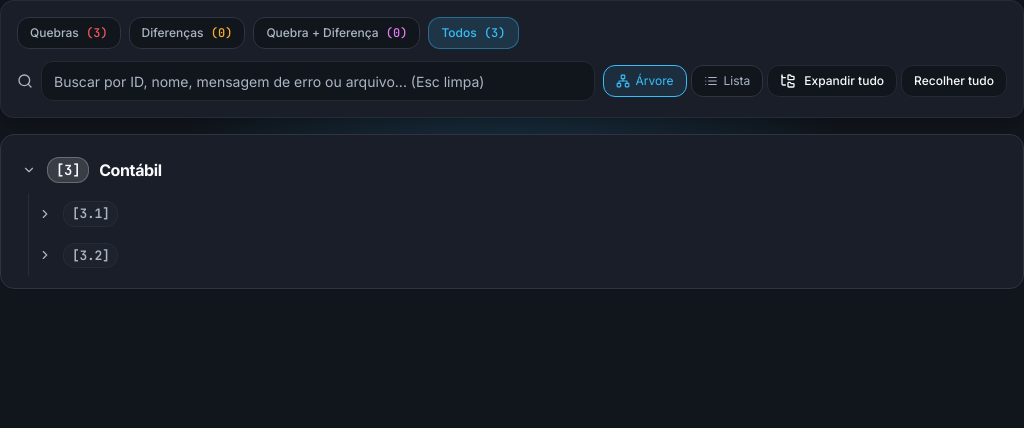
Test: aba Falhas › busca pela mensagem de erro mesmo sem nome correspondente na hierarquia
Expected: the text "[3.1.1]" is not shown
Replace the text in the search field with placeholder "Buscar por ID" with "btnSalvar": (318, 81) [41,61,594,101]
Wait 300 ms
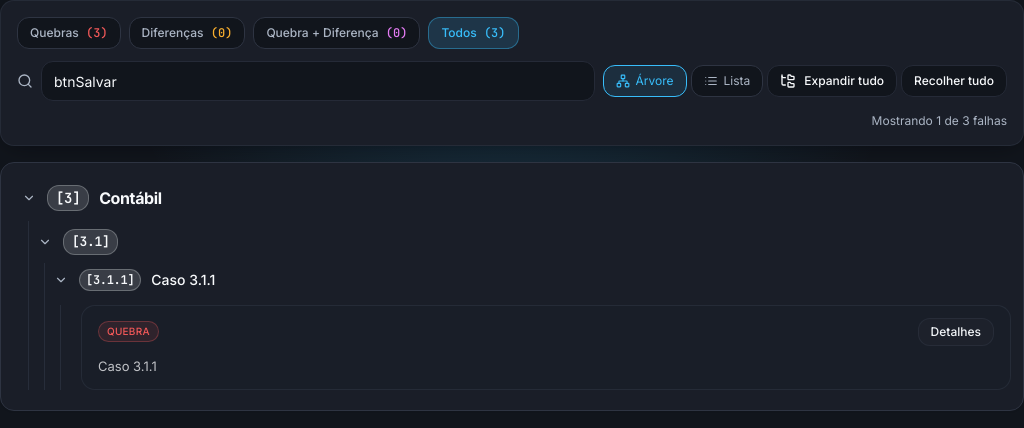
Expected: the text "[3.1.1]" is shown, [79,268,141,290]
Expected: the text "Mostrando 1 de 3 falhas" is shown, [872,113,1007,128]
